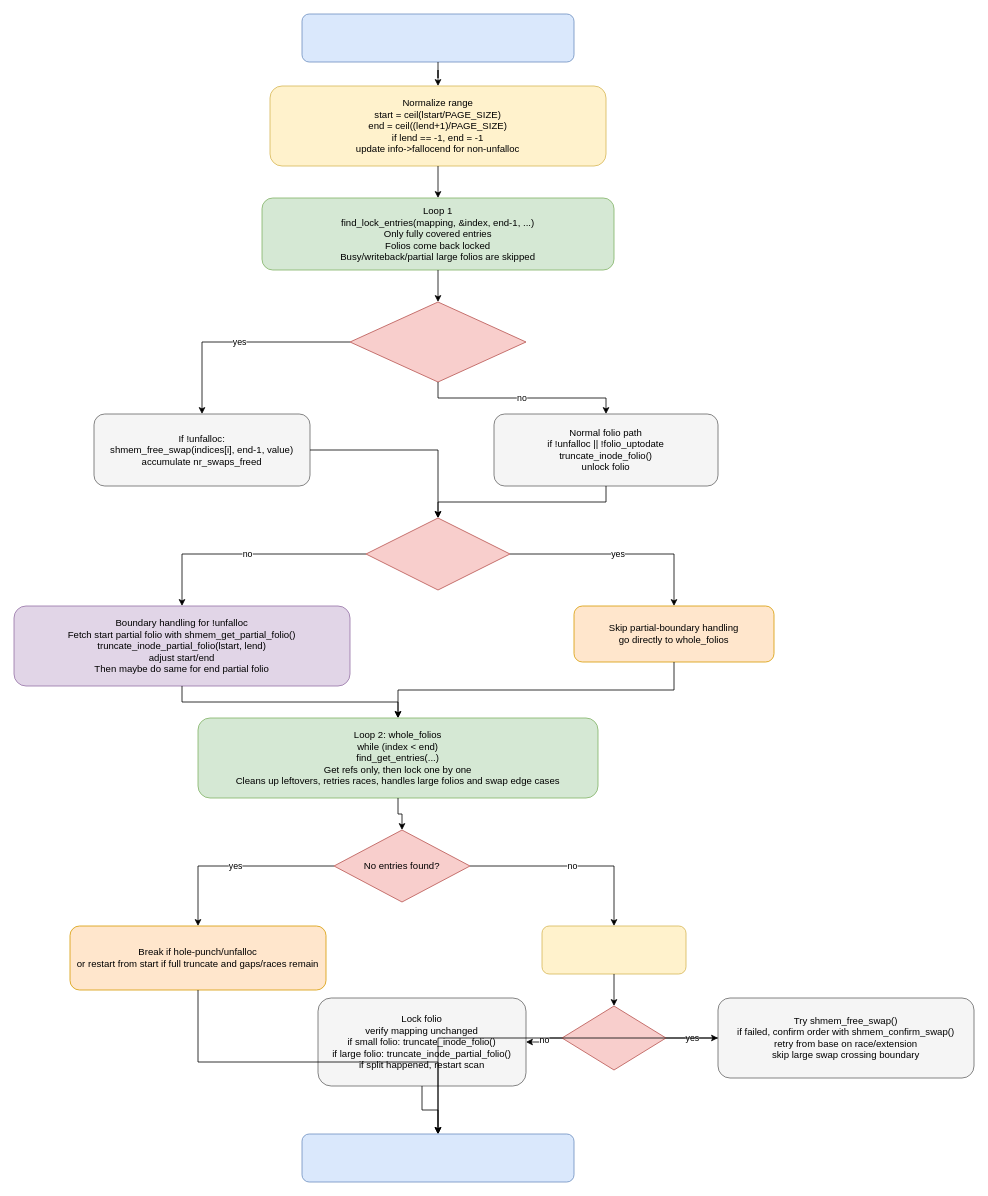
The diagram is 988 pixels wide and 1196 high, and some of its shapes have lost their labels. Here are the shapes that lost their labels. From the top down, the centre of each, then its label:
(x=437, y=37): Entry shmem_undo_range(inode, lstart, lend, unfalloc)
(x=437, y=341): Entry is swap/XArray value?
(x=437, y=553): unfalloc?
(x=613, y=949): Per-entry handling
(x=613, y=1037): Swap entry?
(x=437, y=1157): Finish shmem_recalc_inode(inode, 0, -nr_swaps_freed)
